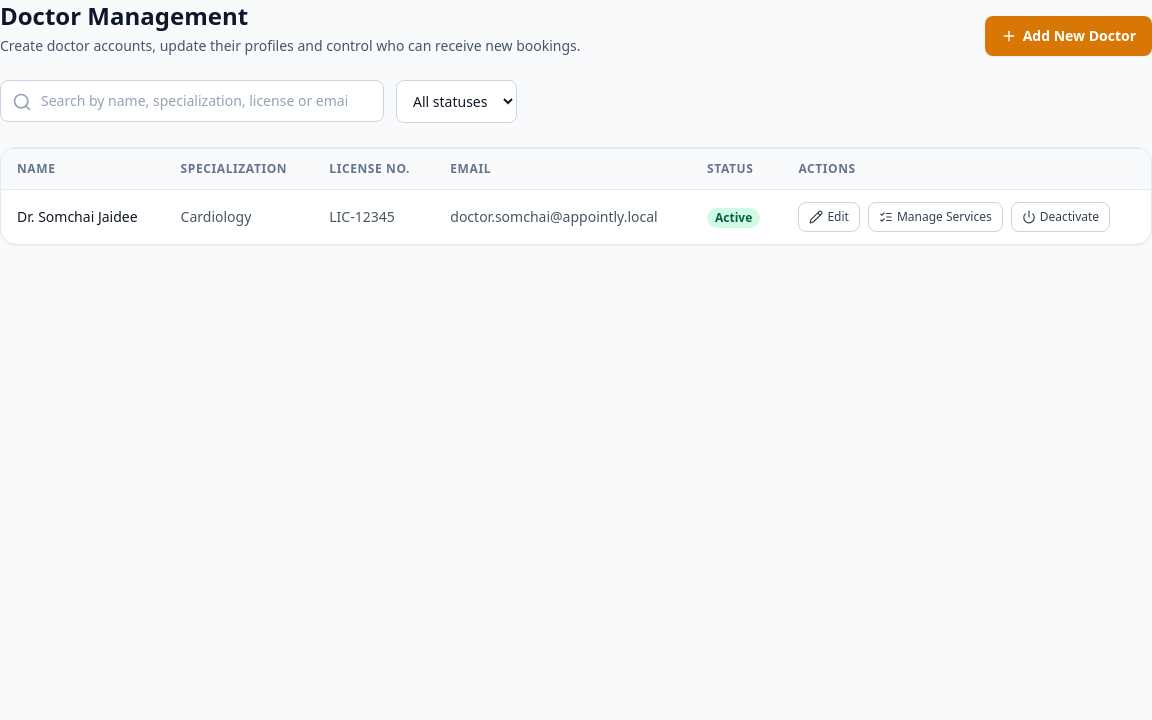
Test: Admin Doctor-Service Assignment (/admin/doctors → Manage Services) › shows a loading skeleton, then every clinic service with its assignment status
The image size is (1152, 720).
Check: the table is shown, box [1,148,1151,244]
Click the button with aria-label "Manage services for": coordinates (935, 217) [868,202,1003,232]
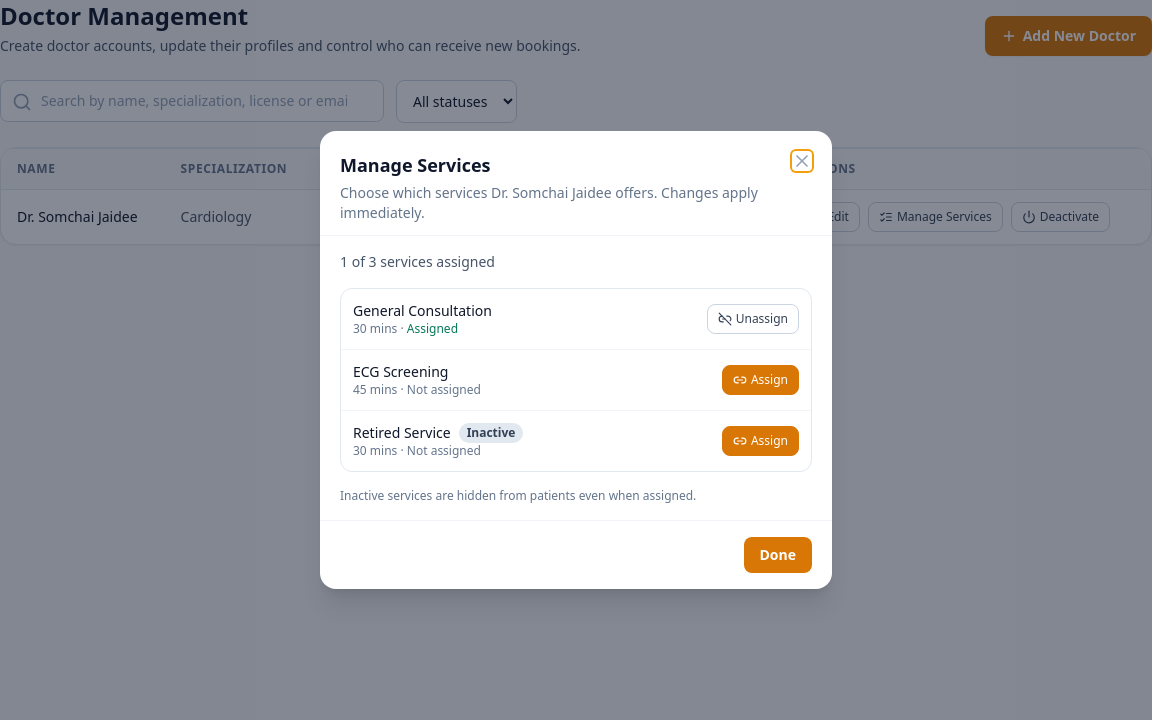
Check: the number of list items is 3, box [341,289,811,349]; [341,349,811,410]; [341,410,811,471]
Check: the text "General Consultation" is shown, box [353,301,492,321]
Check: the text "Assigned" is shown, box [407,320,458,337]
